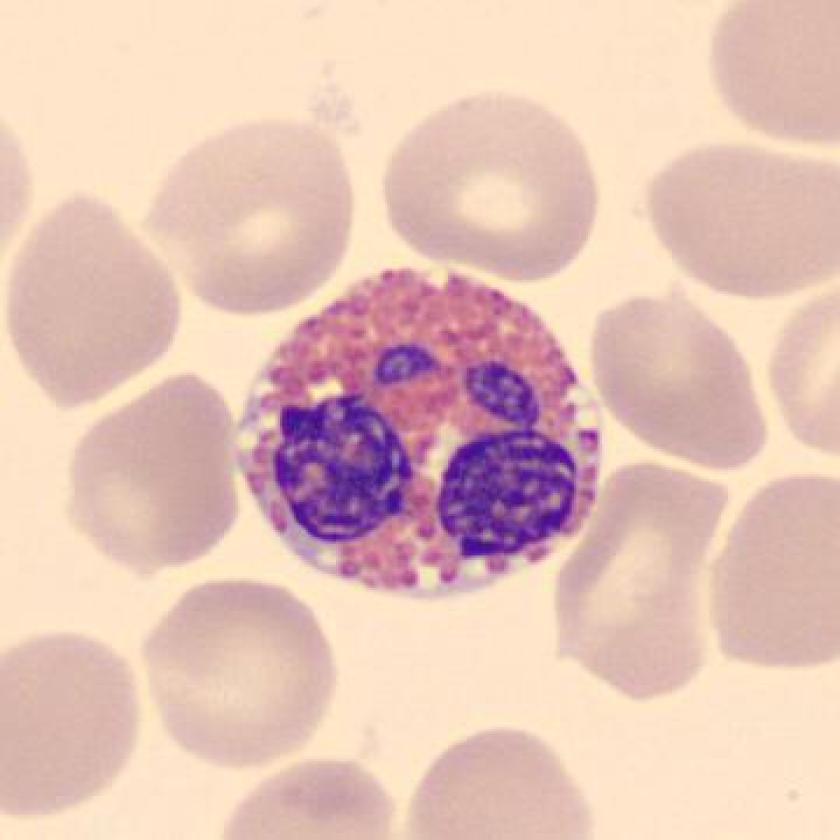eosinophil: (218, 255, 610, 612)
